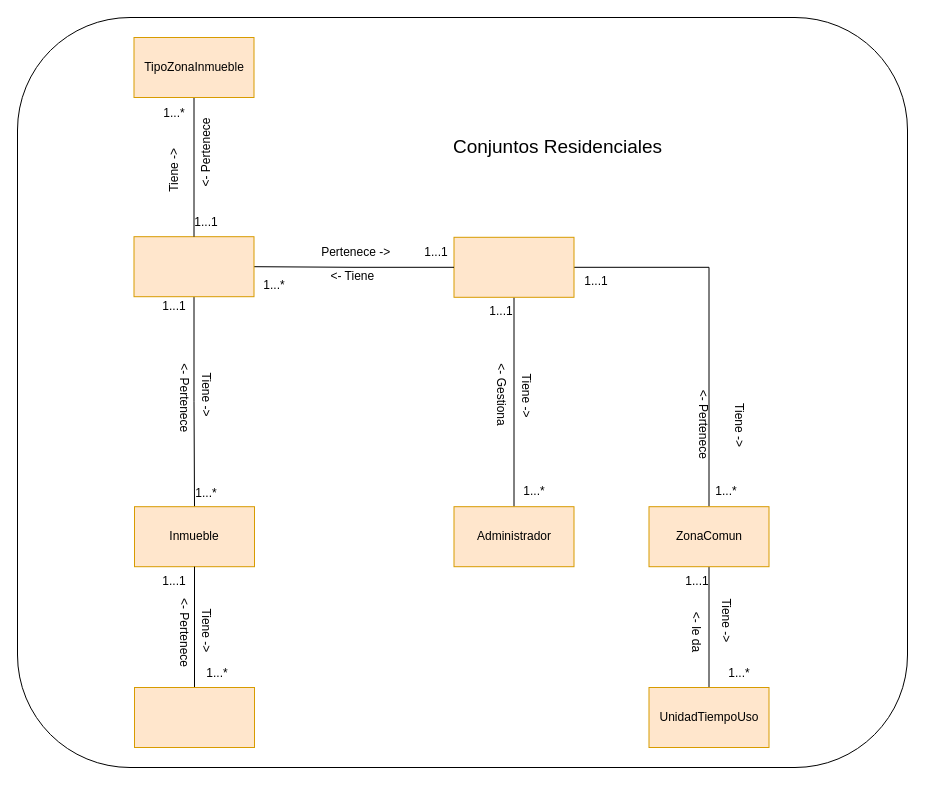
Some shapes in this 925 by 785 pixel diagram are drawn without their labels. The shapes that lost their labels are listed below. From the top down, each one's centre as x and y in pixels, then its label:
At [193,266]: "ZonaInmueble".
At [513,266]: "ConjuntoResidencial".
At [194,717]: "TipoInmueble".
